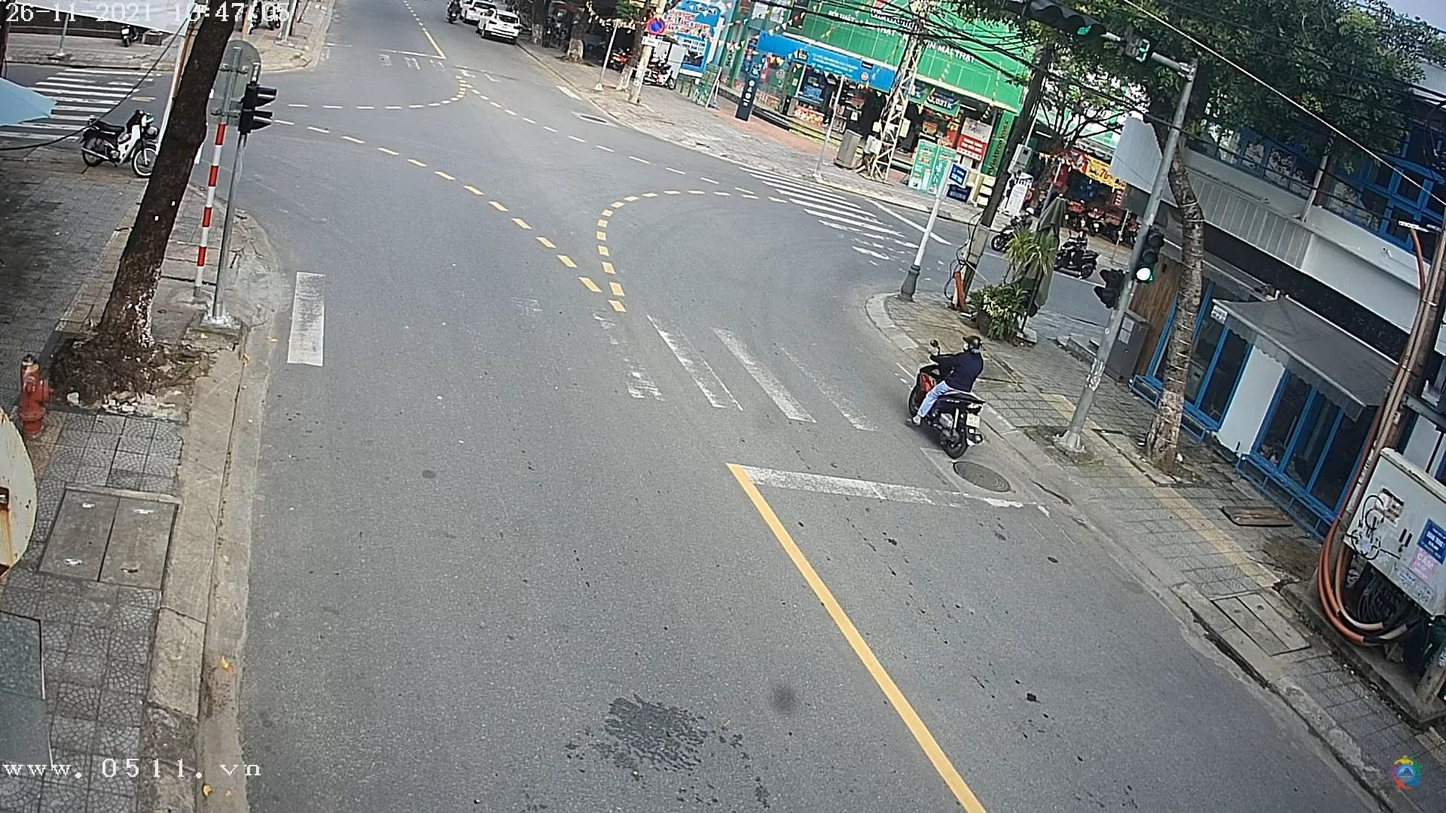motorbike: (913, 388, 991, 458)
